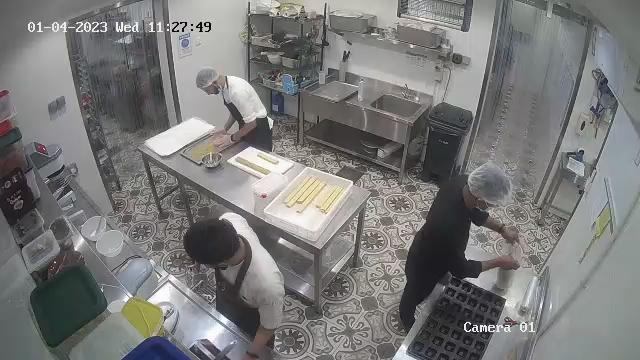apron: (212, 250, 283, 349), (222, 76, 274, 153)
